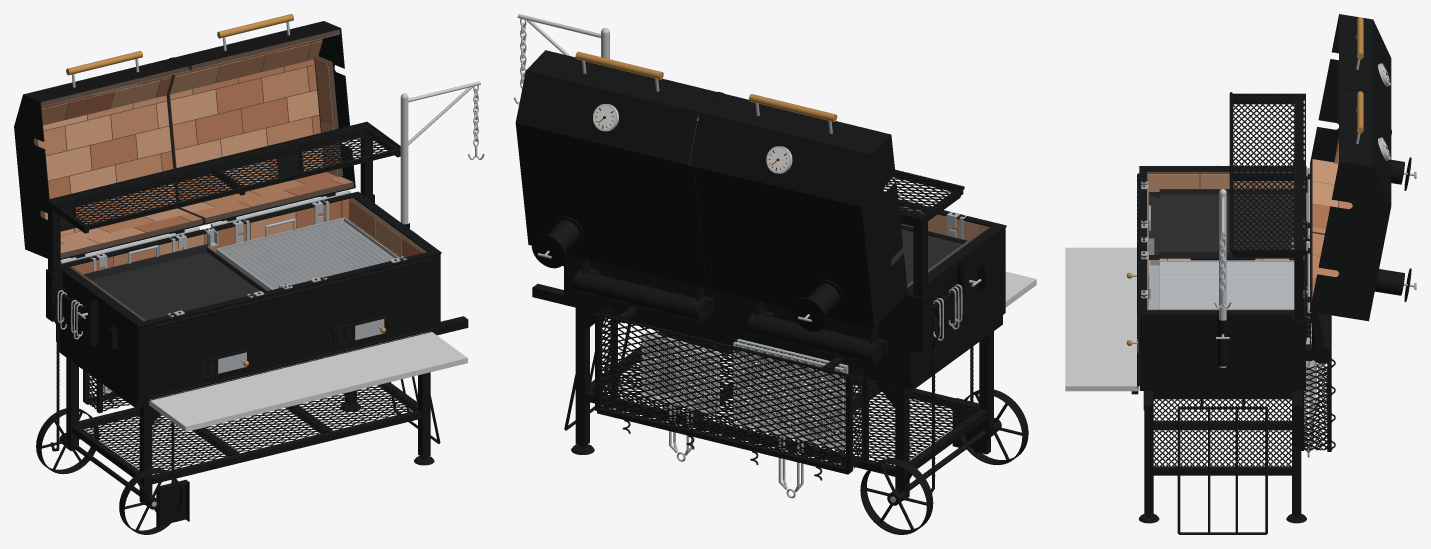
File: paulo-xl-showcase-black.glb
3 renders of one model, left to right at view 1: azimuth 30°, elevation 25°; view 2: azimuth 150°, elevation 25°; view 3: azimuth 270°, elevation 25°, orthographic. The views are drawn at different scales.
Parts seen in each view (by area): view 1: Braai box (fully brick-lined):frame, Cart frame:frame, Upper shelf (lifts off):frame, Fold-up stainless table:stainless, Plancha (half length):plate, Half grid: V-channel with drip trough:zinc, Oven lid, right half:brick0, Oven lid, left half:brick2, Oven lid, left half:frame, Oven lid, right half:brick1, Oven lid, right half:brick2, Oven lid, left half:brick0 (+19 smaller); view 2: Oven lid, left half:frame, Oven lid, right half:frame, Cart frame:frame, Grid & accessory storage cage (back):frame, Braai box (fully brick-lined):frame, Large zinc-plated grid:zinc, Small zinc-plated grid:zinc, Upper shelf (lifts off):frame, Plancha (half length):plate, Potjie boom pole:galv, Oven lid, left half:wood, Oven lid, right half:wood (+5 smaller); view 3: Braai box (fully brick-lined):frame, Oven lid, right half:frame, Cart frame:frame, Upper shelf (lifts off):frame, Fold-up stainless table:stainless, Plancha (half length):plate, Half grid: V-channel with drip trough:zinc, Oven lid, left half:frame, Grid & accessory storage cage (back):frame, Potjie lid holder:frame, Braai box (fully brick-lined):brick2, Potjie boom pole:galv (+5 smaller).
Part boxes in pixels (x1,y1,x2,y2): Braai box (fully brick-lined):frame: (46, 191, 441, 401); Cart frame:frame: (36, 286, 468, 534); Upper shelf (lifts off):frame: (47, 121, 400, 272); Fold-up stainless table:stainless: (149, 331, 467, 431); Plancha (half length):plate: (83, 244, 266, 320); Half grid: V-channel with drip trough:zinc: (216, 217, 400, 290); Oven lid, right half:brick0: (169, 41, 352, 217); Oven lid, left half:brick2: (38, 71, 188, 253); Oven lid, left half:frame: (14, 59, 204, 259); Oven lid, right half:brick1: (178, 38, 341, 201); Oven lid, right half:brick2: (170, 34, 338, 212); Oven lid, left half:brick0: (38, 95, 201, 244); Oven lid, left half:frame: (689, 93, 907, 364); Oven lid, right half:frame: (515, 50, 723, 322); Cart frame:frame: (532, 283, 1028, 534); Grid & accessory storage cage (back):frame: (595, 305, 868, 480); Braai box (fully brick-lined):frame: (562, 199, 1006, 382); Large zinc-plated grid:zinc: (733, 339, 848, 498); Small zinc-plated grid:zinc: (641, 332, 719, 461); Upper shelf (lifts off):frame: (883, 169, 964, 297); Plancha (half length):plate: (891, 224, 967, 284); Potjie boom pole:galv: (513, 14, 609, 104); Oven lid, left half:wood: (749, 94, 837, 121); Oven lid, right half:wood: (575, 51, 663, 79); Braai box (fully brick-lined):frame: (1137, 162, 1312, 390); Oven lid, right half:frame: (1307, 85, 1411, 363); Cart frame:frame: (1139, 317, 1310, 523); Upper shelf (lifts off):frame: (1229, 92, 1305, 320); Fold-up stainless table:stainless: (1065, 247, 1139, 391); Plancha (half length):plate: (1149, 189, 1294, 260); Half grid: V-channel with drip trough:zinc: (1148, 260, 1294, 309); Oven lid, left half:frame: (1307, 14, 1411, 237); Grid & accessory storage cage (back):frame: (1301, 267, 1335, 451); Potjie lid holder:frame: (1177, 399, 1267, 534); Braai box (fully brick-lined):brick2: (1147, 174, 1294, 309); Potjie boom pole:galv: (1214, 189, 1231, 367).
Bounding box in the file's own units: 2.02 × 1.82 × 1.52.
